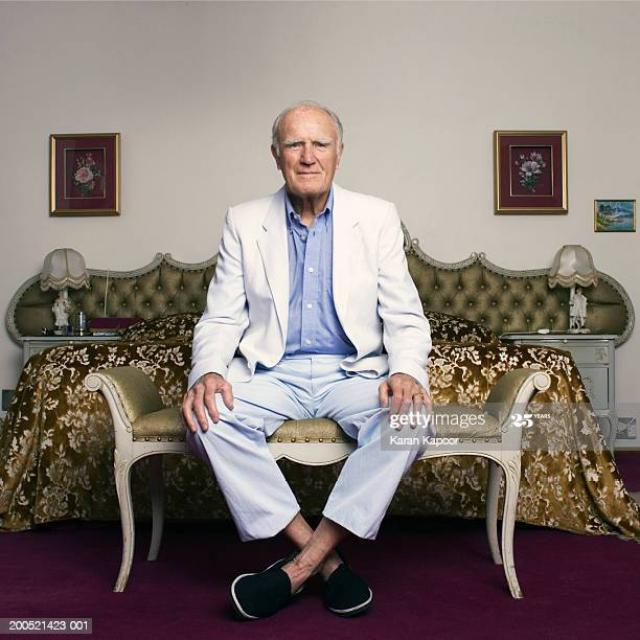nonfall: (188, 87, 430, 615)
